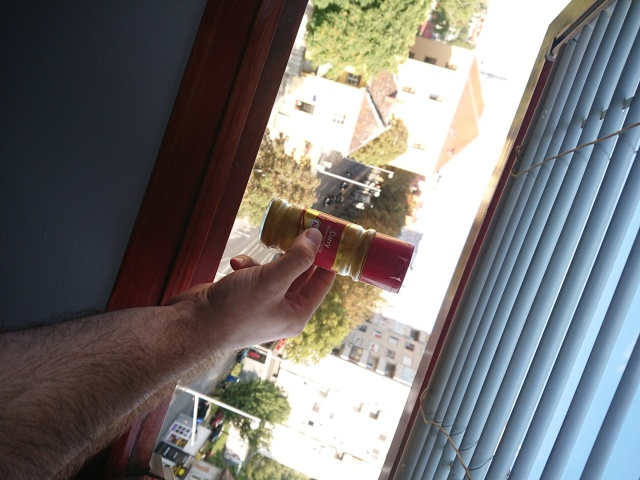Kotanyi Curry Spices Mix 70g: (255, 194, 417, 297)
